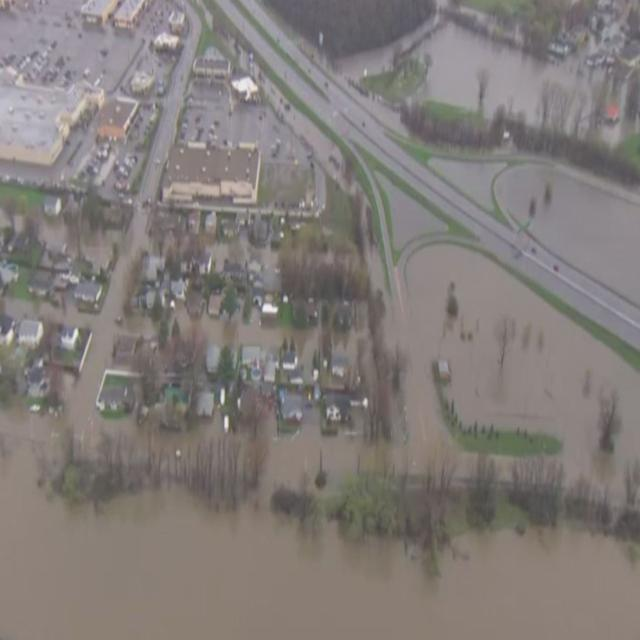flooded_areas: (0, 186, 639, 533)
